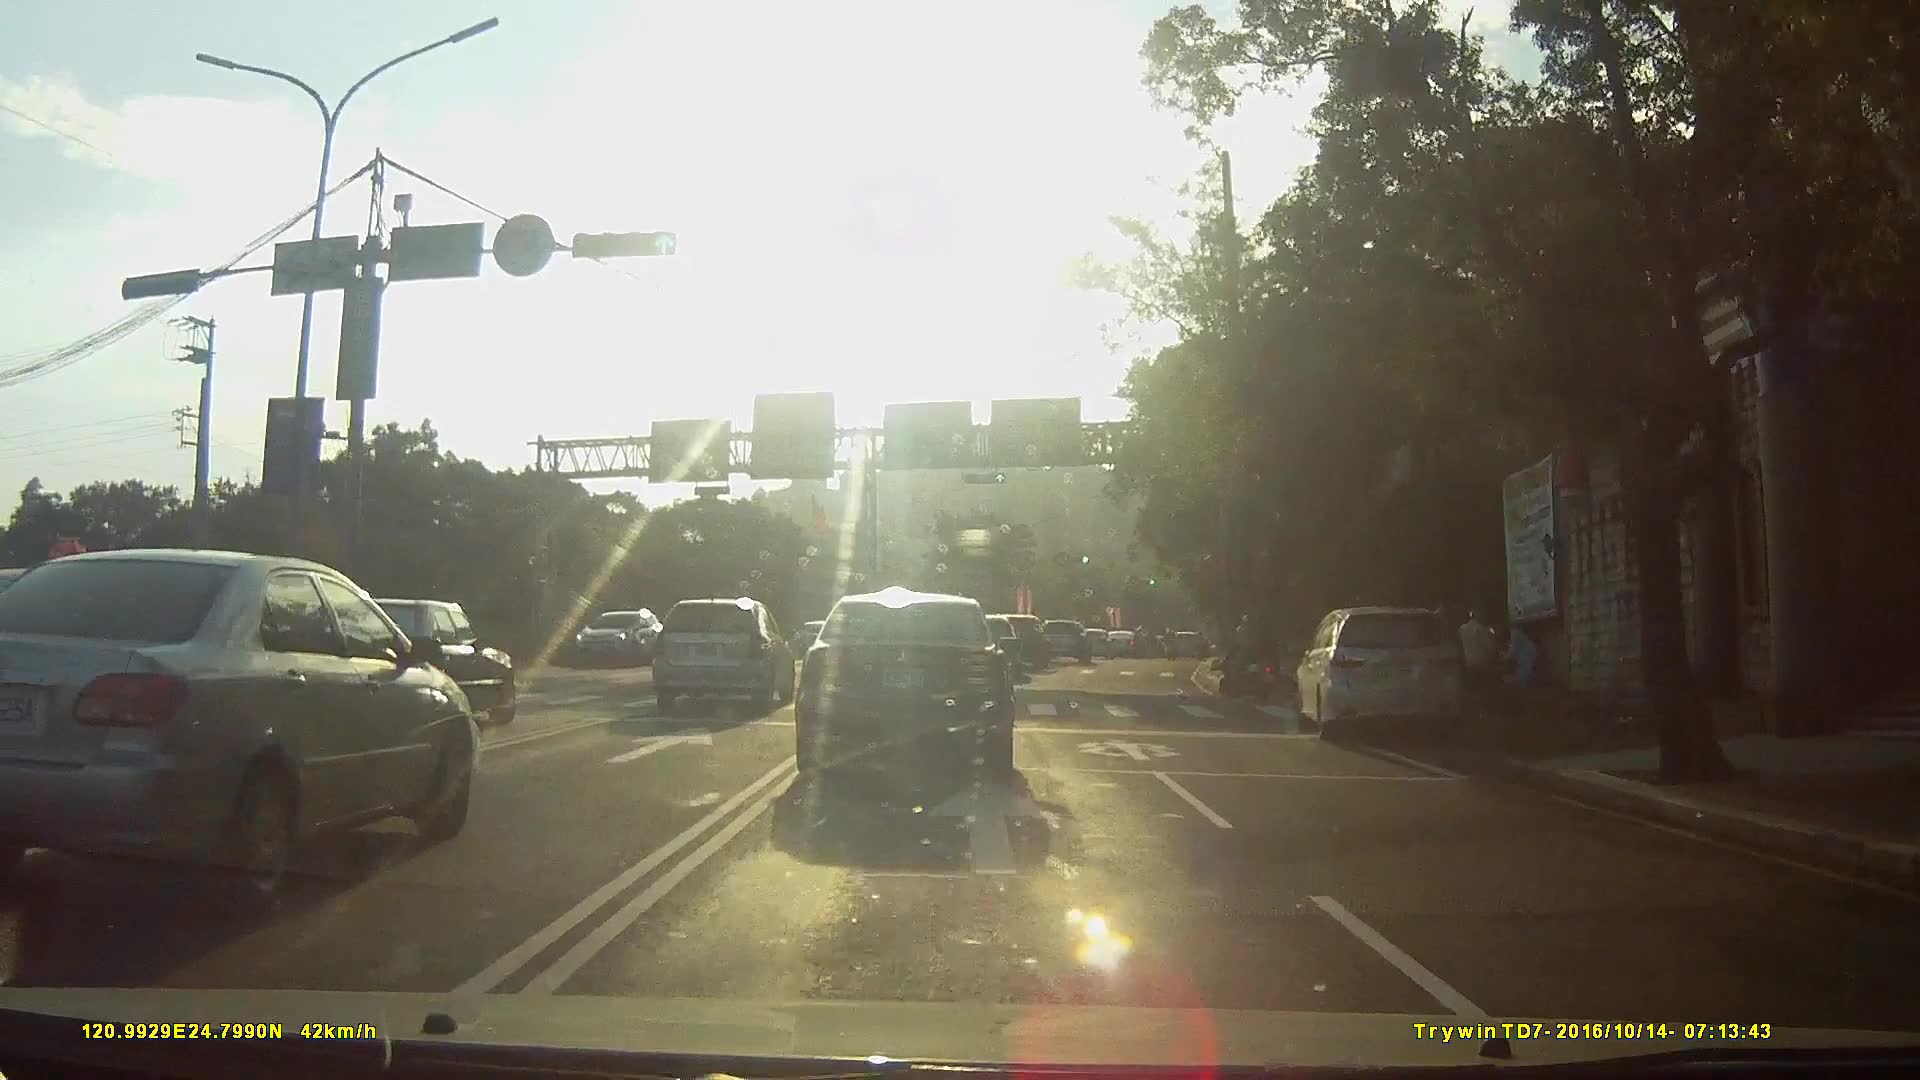pedestrian: (1464, 606, 1497, 721), (1506, 625, 1542, 697)
rider: (1220, 609, 1279, 696)
vehicle: (0, 549, 484, 911), (789, 590, 1035, 801), (306, 595, 529, 732), (1291, 600, 1482, 747), (652, 597, 800, 717), (569, 604, 667, 669), (997, 609, 1059, 667), (1043, 617, 1100, 663), (1080, 624, 1119, 656), (1112, 628, 1142, 656)
